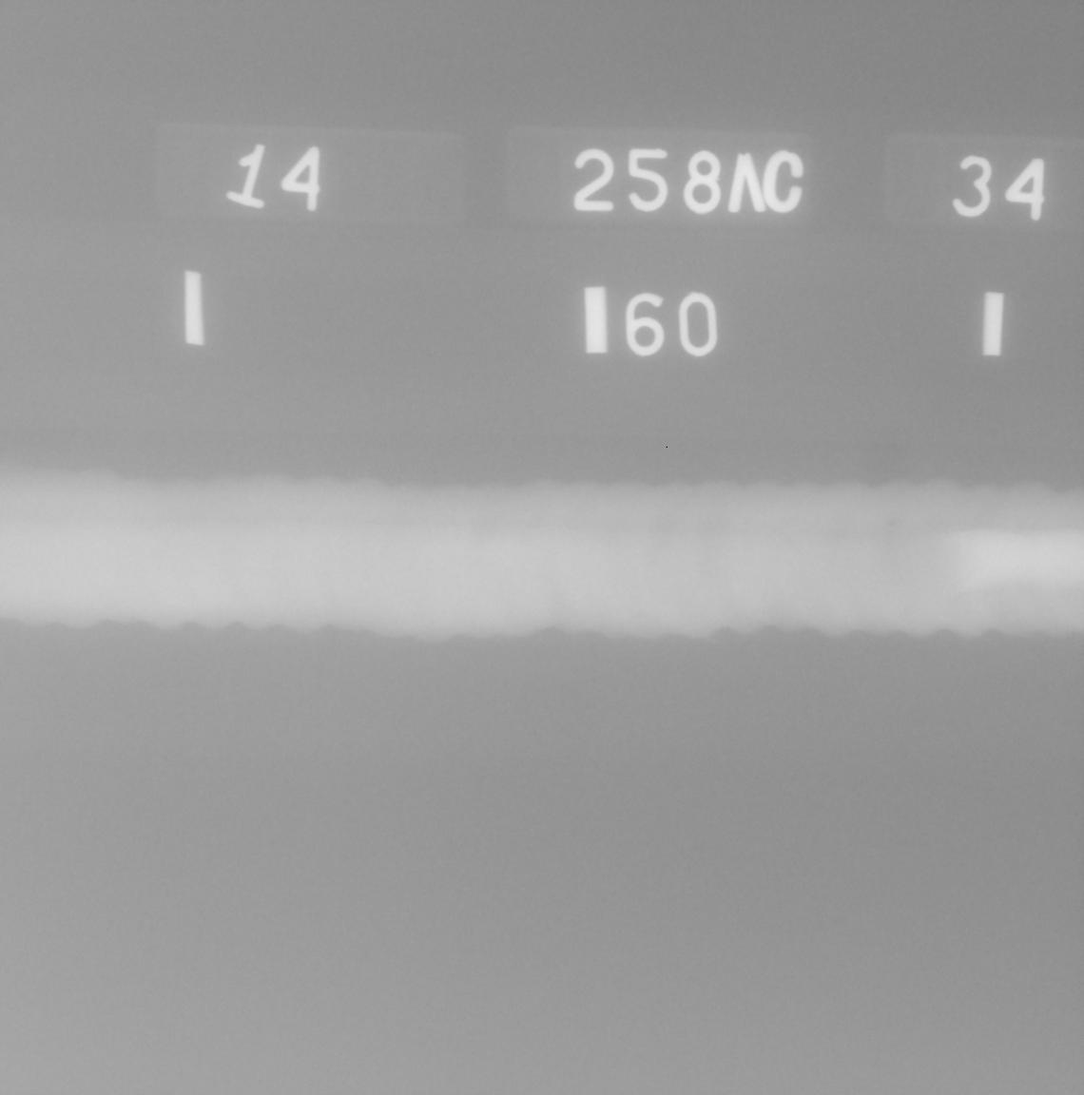Inclusion: (183, 484, 186, 487)
Pore/Porosity: (885, 518, 900, 528)
